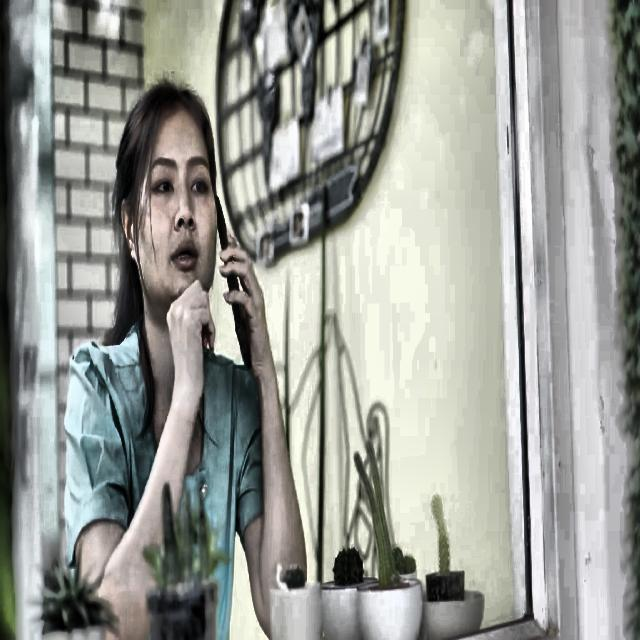Phone: (210, 184, 256, 370)
